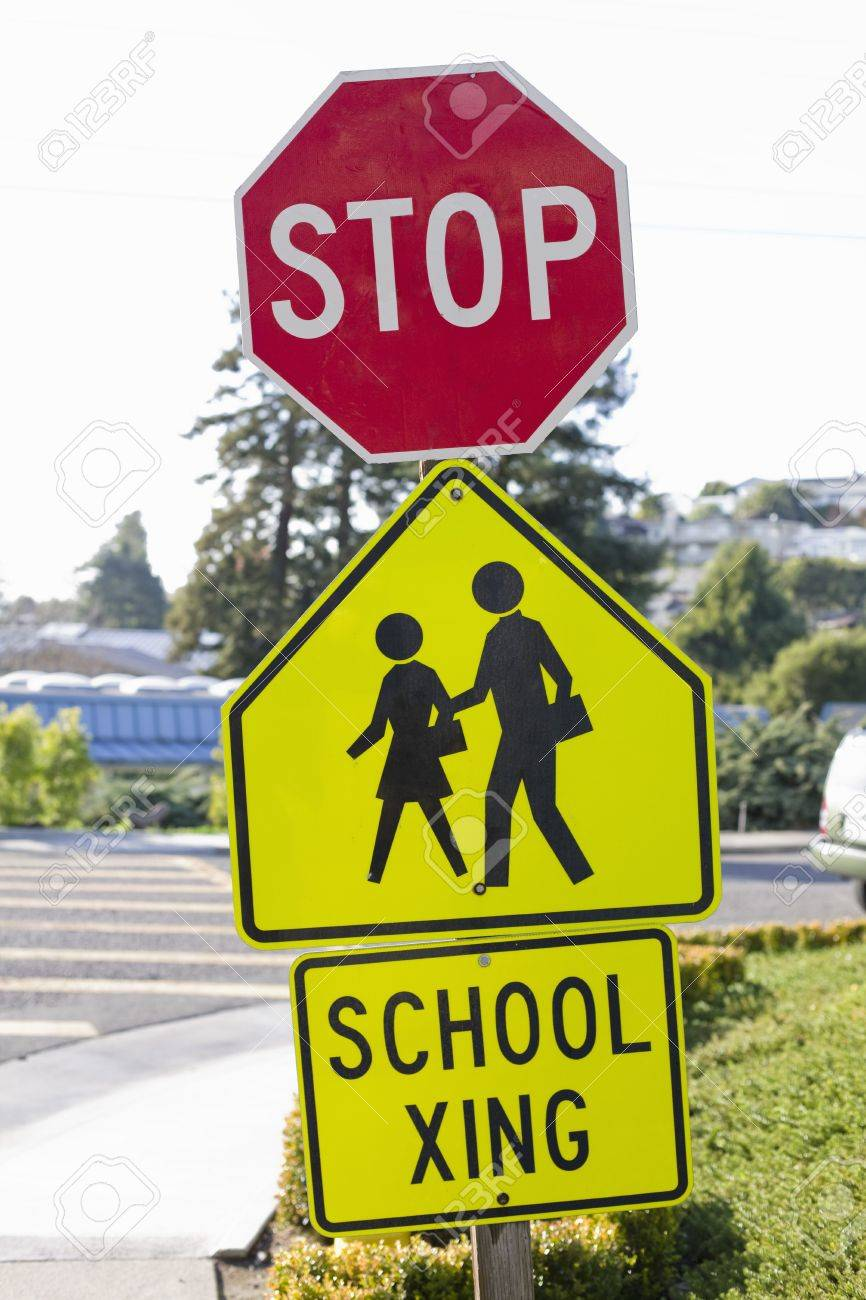slow: (221, 473, 722, 927)
stop: (228, 57, 638, 460)
